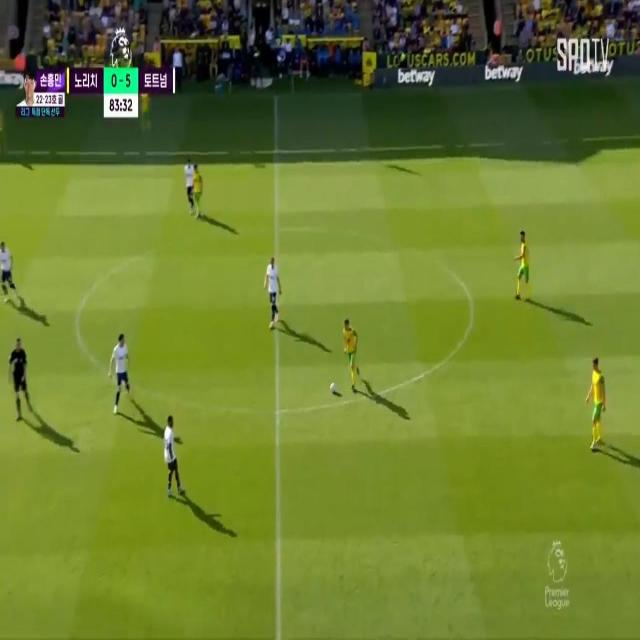ball: (324, 376, 337, 400)
player: (587, 351, 605, 445), (339, 314, 361, 388), (511, 228, 531, 303), (110, 325, 128, 408), (163, 409, 180, 492), (266, 254, 282, 334), (0, 239, 16, 299), (182, 156, 194, 210), (194, 162, 206, 215)
referee: (5, 340, 31, 420)
